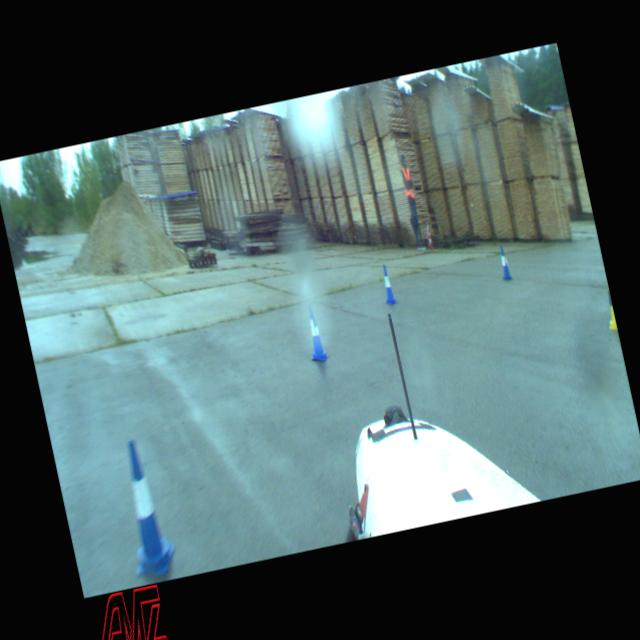blue_cone: (108, 436, 180, 580), (300, 304, 329, 362), (378, 262, 398, 304), (496, 244, 512, 280)
yellow_cone: (600, 282, 618, 331)
